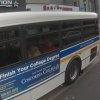Bus: (1, 6, 99, 95)
